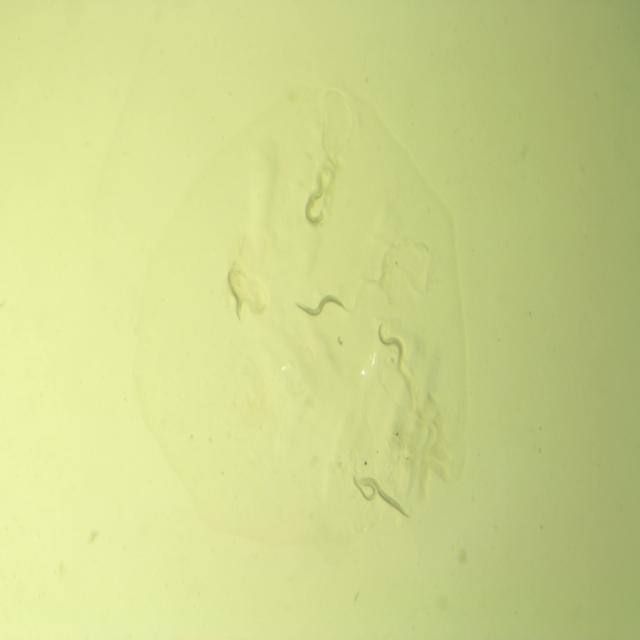worm: (358, 475, 413, 524), (290, 286, 352, 325), (220, 264, 253, 328), (372, 316, 408, 372), (301, 177, 333, 233), (349, 468, 380, 506)
